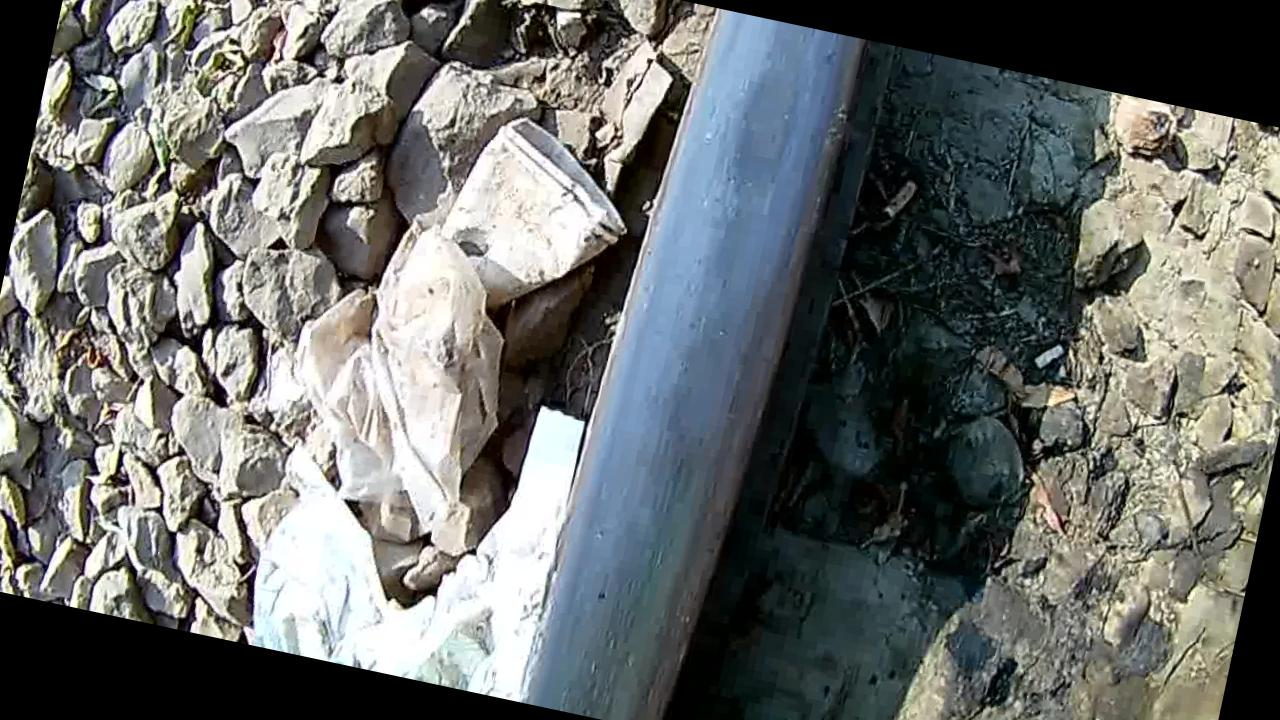bolt_missing: (522, 0, 853, 720)
